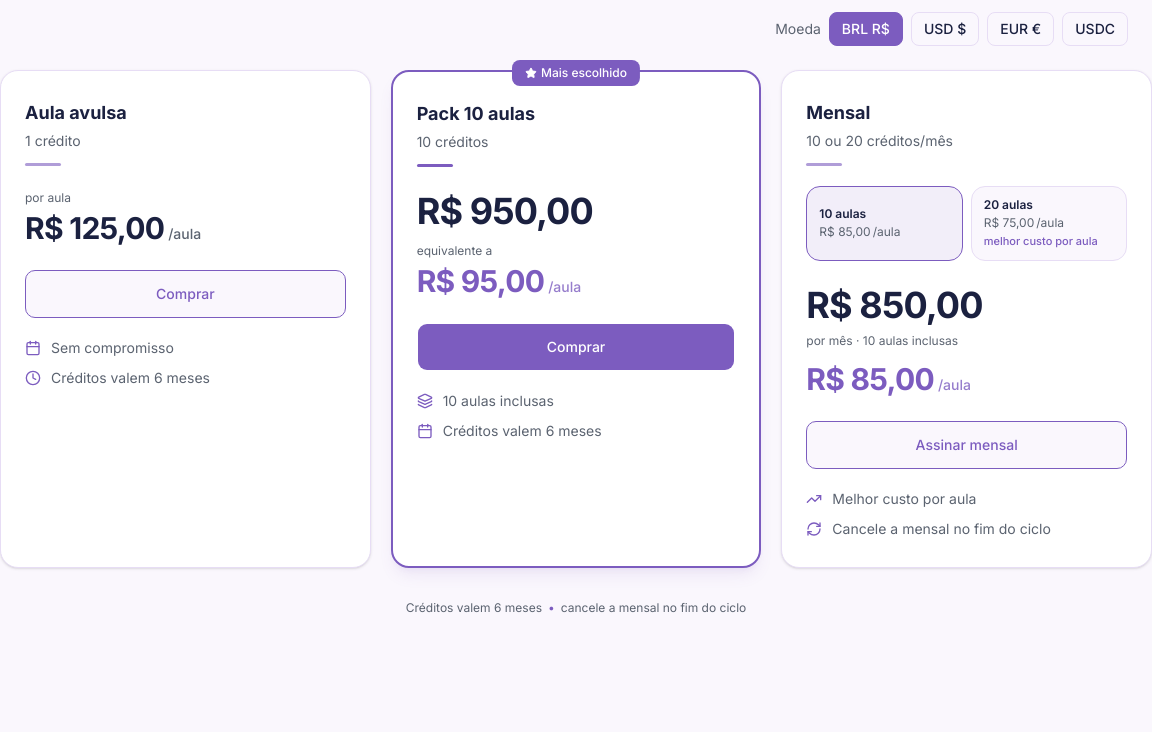
it: PricingCards › trocar a moeda repreca a vitrine e persiste a escolha
The width and height of the screenshot is (1152, 732).
What coordinates should you click on to do the following:
click the button with test id "credits-currency-select-usd-button"
I would click on:
 (945, 29)
Its box is top-left (911, 12), bottom-right (979, 46).
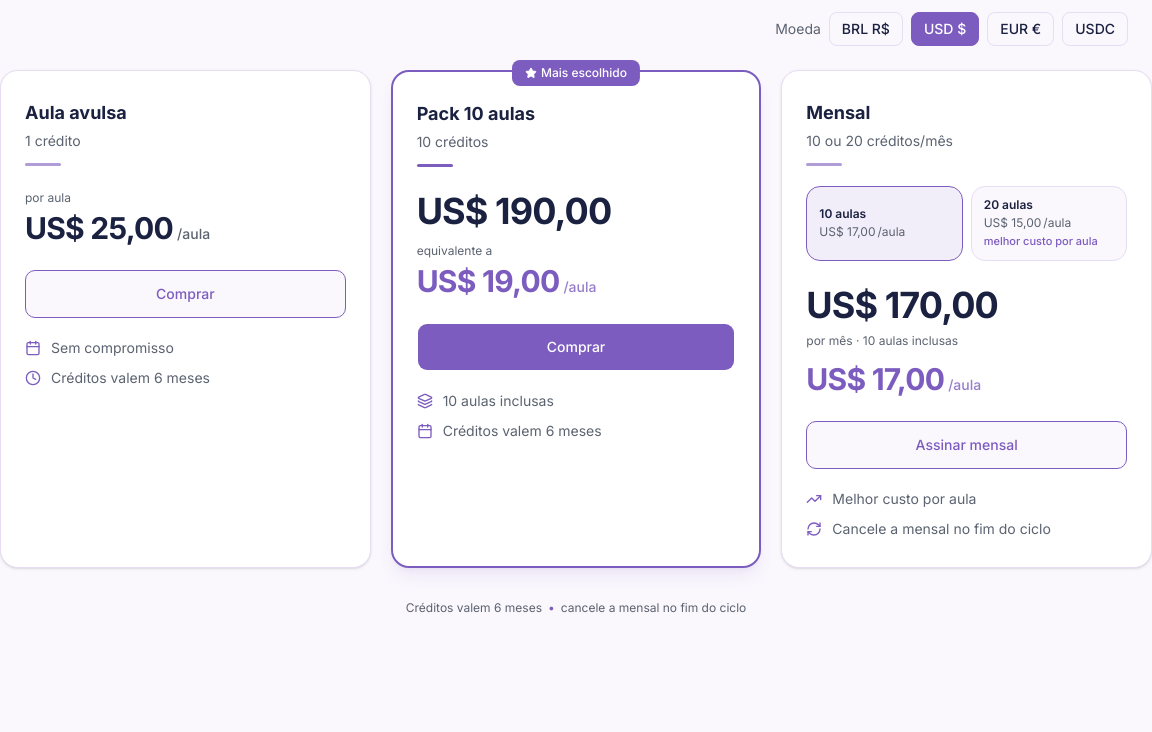
Expected: the text "US$ 190,00" is shown, top-left (417, 189), bottom-right (611, 233)
Expected: the text "US$ 25,00" is shown, top-left (25, 210), bottom-right (173, 246)
What coordinates should you click on to do the following:
click the button with test id "credits-currency-select-brl-button"
I would click on:
 (866, 29)
Its box is top-left (829, 12), bottom-right (903, 46).
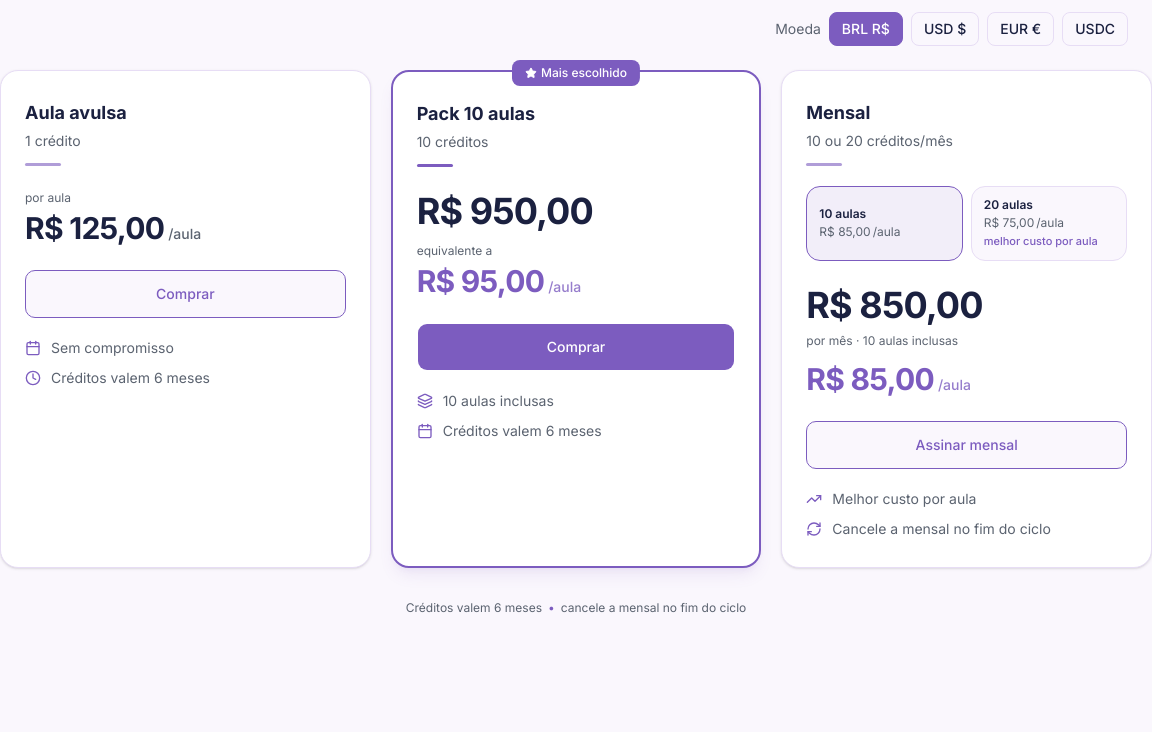
Expected: the text "R$ 950,00" is shown, top-left (417, 189), bottom-right (593, 233)
